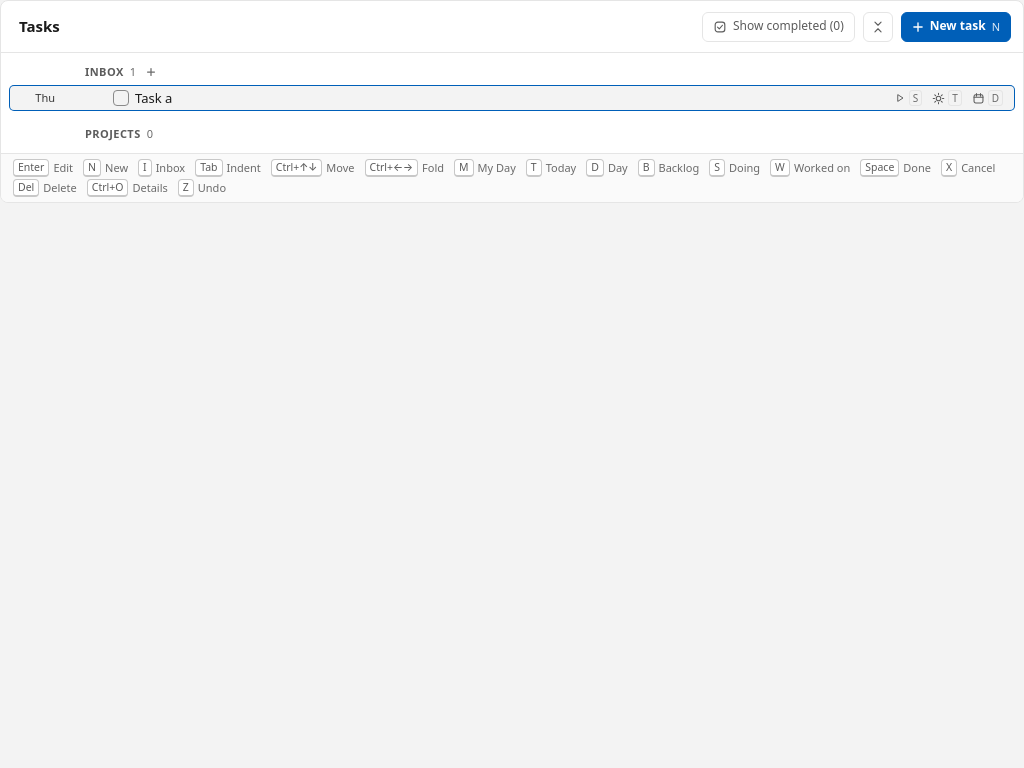
Test case: PickerHost › No day clears the day; Esc closes without writing
Check: the text "Task a" is shown, box left=135, top=89, right=172, bottom=107
Press d
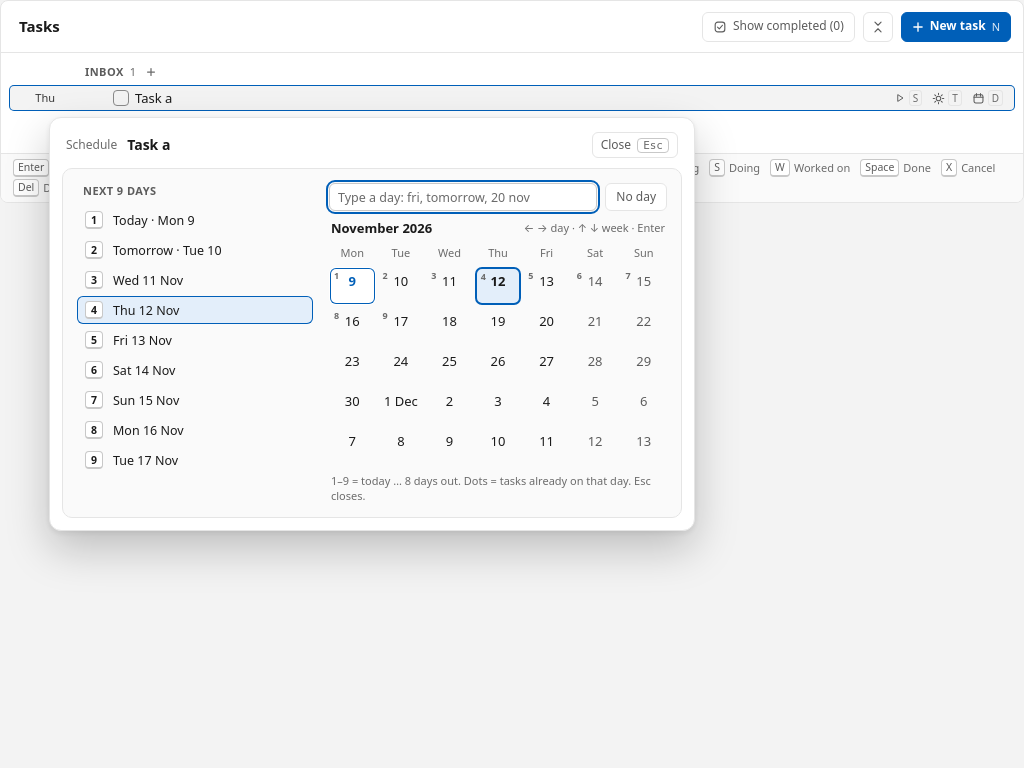
Click the button "No day" at (636, 197), box left=605, top=183, right=667, bottom=211
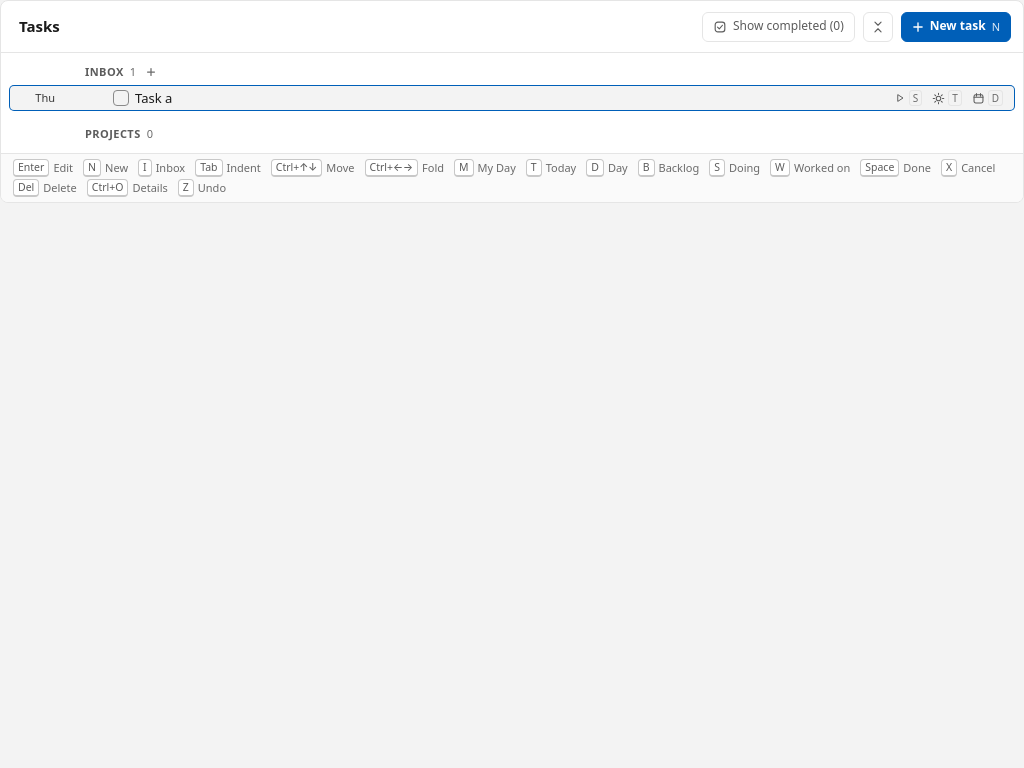
Press d
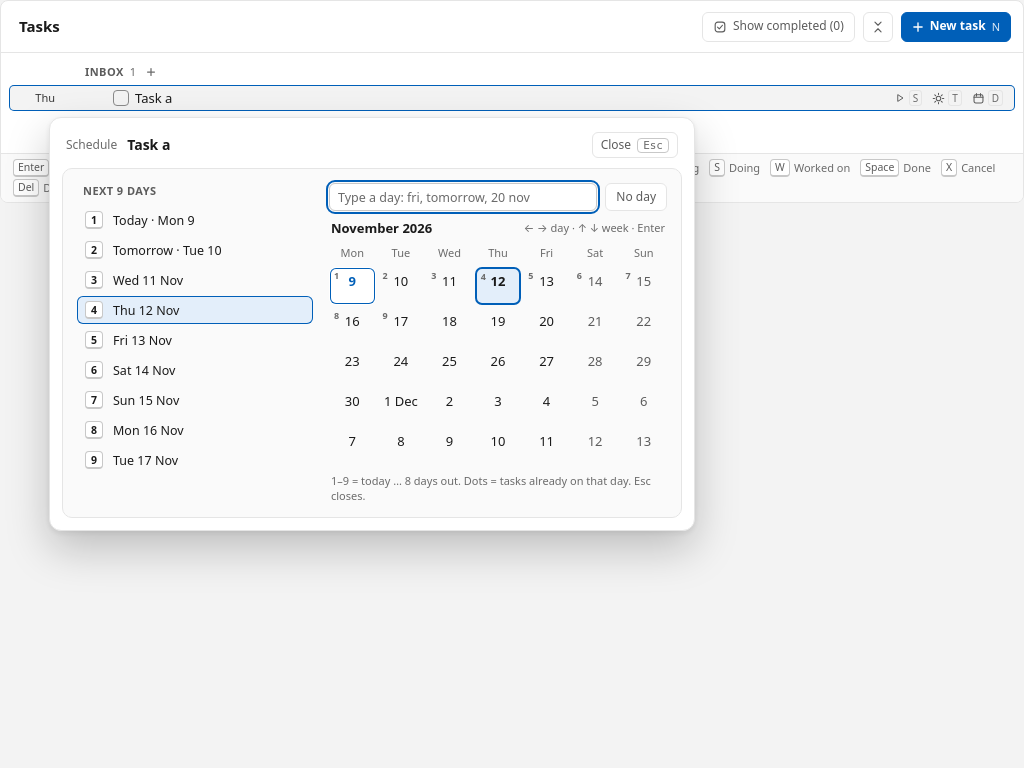
Press Escape in the field with placeholder "Type a day: fri, tomorrow, 20 nov", box left=329, top=183, right=597, bottom=211
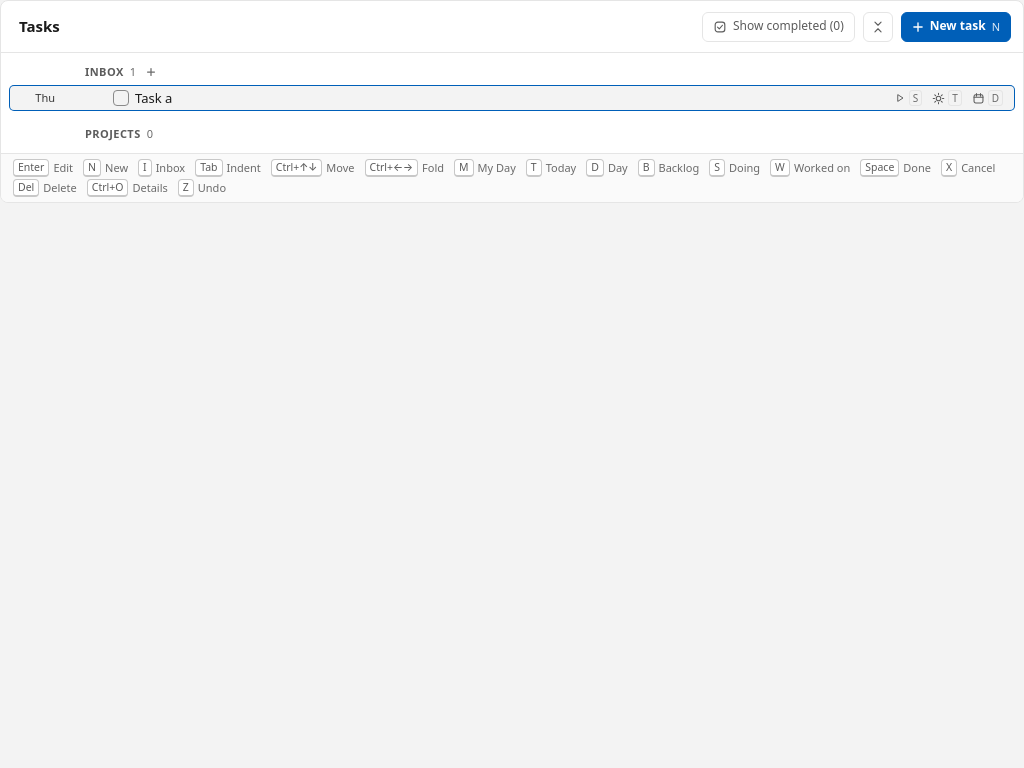
Check: the dialog is gone
